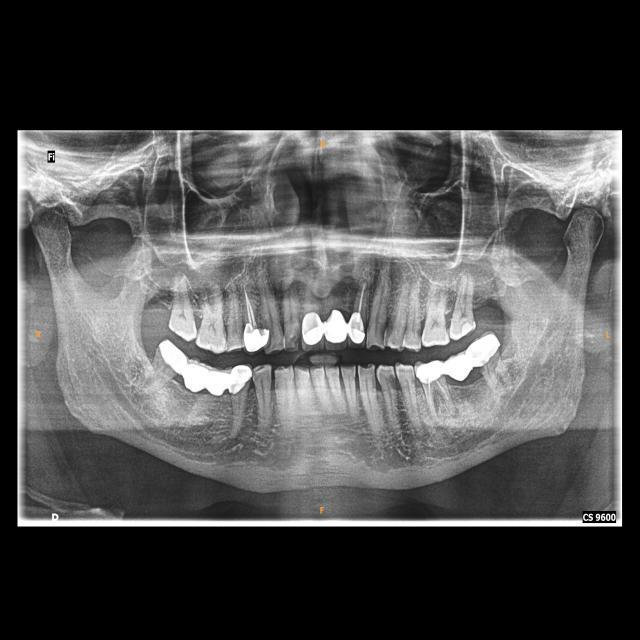dentin-curugu: (387, 375, 397, 391)
dolgu: (448, 316, 478, 339)
kanal-tedavisi: (422, 378, 455, 412), (239, 276, 258, 330), (353, 273, 369, 319)
kaplama: (156, 336, 186, 377), (468, 332, 504, 366), (325, 310, 349, 352), (347, 308, 367, 352), (416, 359, 448, 385), (301, 309, 324, 345), (229, 363, 252, 397), (242, 326, 272, 352)
